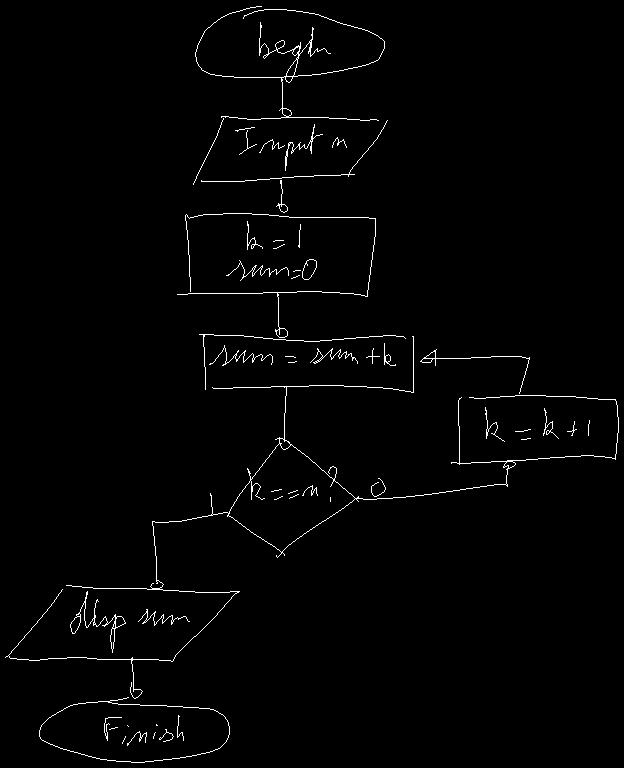arrow: (356, 460, 515, 499), (150, 512, 229, 588), (420, 349, 529, 393), (275, 386, 290, 449), (275, 292, 287, 337), (130, 657, 142, 698), (279, 77, 291, 116), (276, 180, 287, 212)
data: (5, 585, 239, 661), (193, 116, 387, 184)
decision: (227, 442, 358, 557)
process: (177, 213, 375, 296), (199, 334, 413, 392), (451, 395, 618, 464)
terminator: (195, 6, 384, 77), (39, 697, 229, 762)
text: (70, 591, 189, 652), (226, 221, 316, 280), (235, 124, 346, 170), (259, 22, 330, 82), (209, 343, 395, 365), (485, 407, 589, 441), (247, 466, 336, 501), (104, 715, 183, 745), (371, 478, 385, 496), (210, 493, 213, 515)
